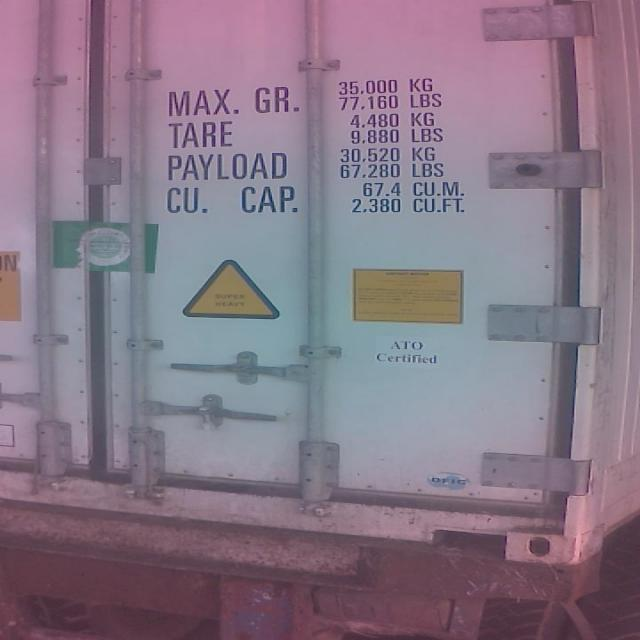seal: (197, 399, 219, 434)
